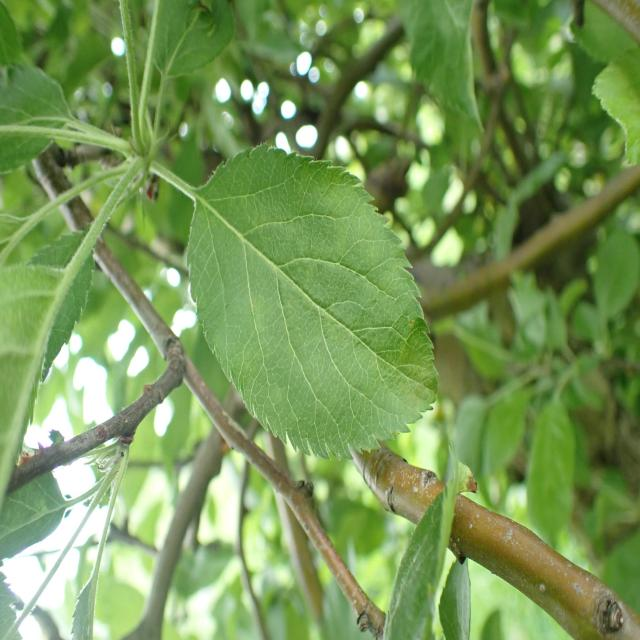scab: (210, 202, 410, 410)
